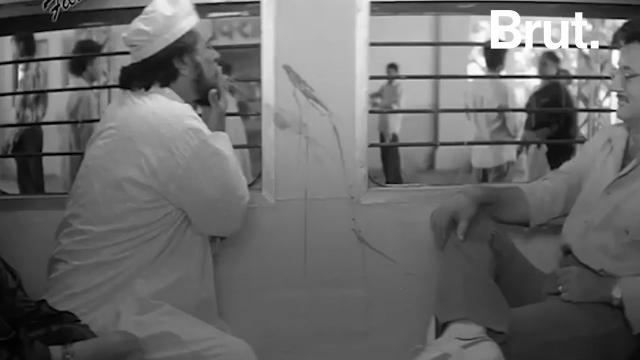spit: (118, 5, 378, 168)
